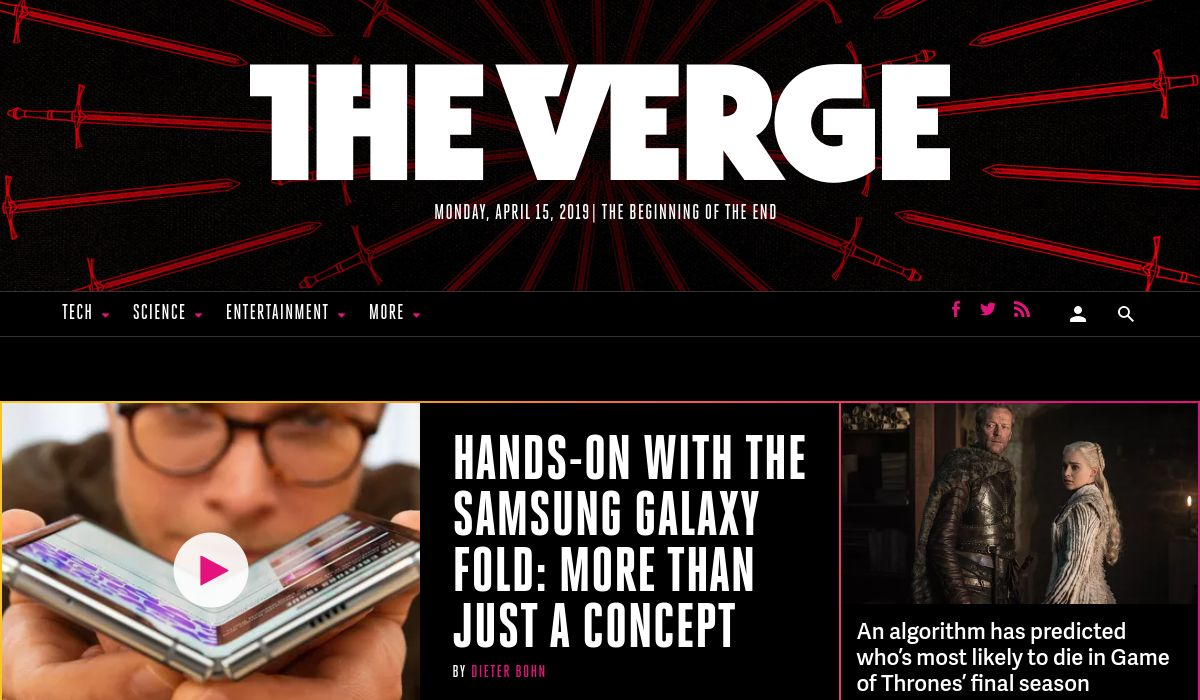menu: (1, 290, 1199, 335)
menu-button: (217, 291, 348, 335), (128, 292, 209, 335), (357, 291, 438, 334), (43, 291, 116, 335), (945, 297, 967, 324), (976, 297, 998, 324), (1009, 297, 1031, 324), (1069, 298, 1091, 325)
menu-search: (1111, 292, 1140, 334)
